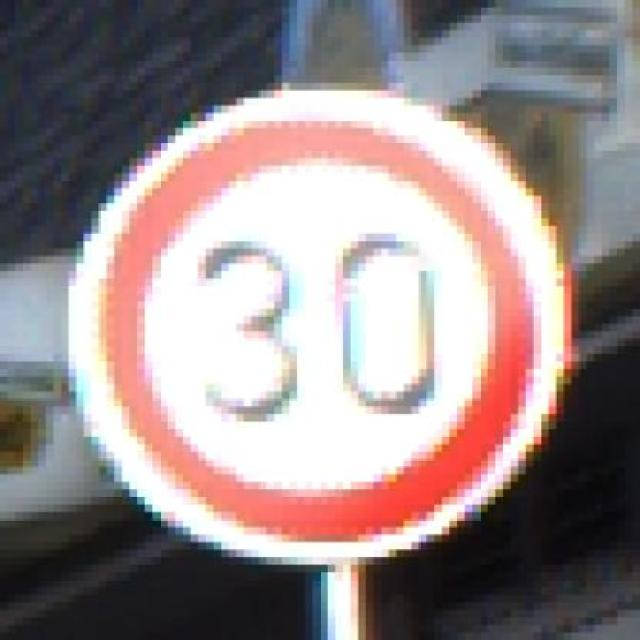Speed Limit 30 KMPh: (38, 75, 618, 596)
